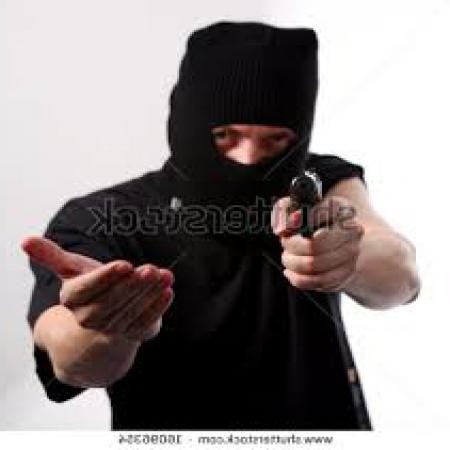Pistol: (288, 164, 333, 250)
